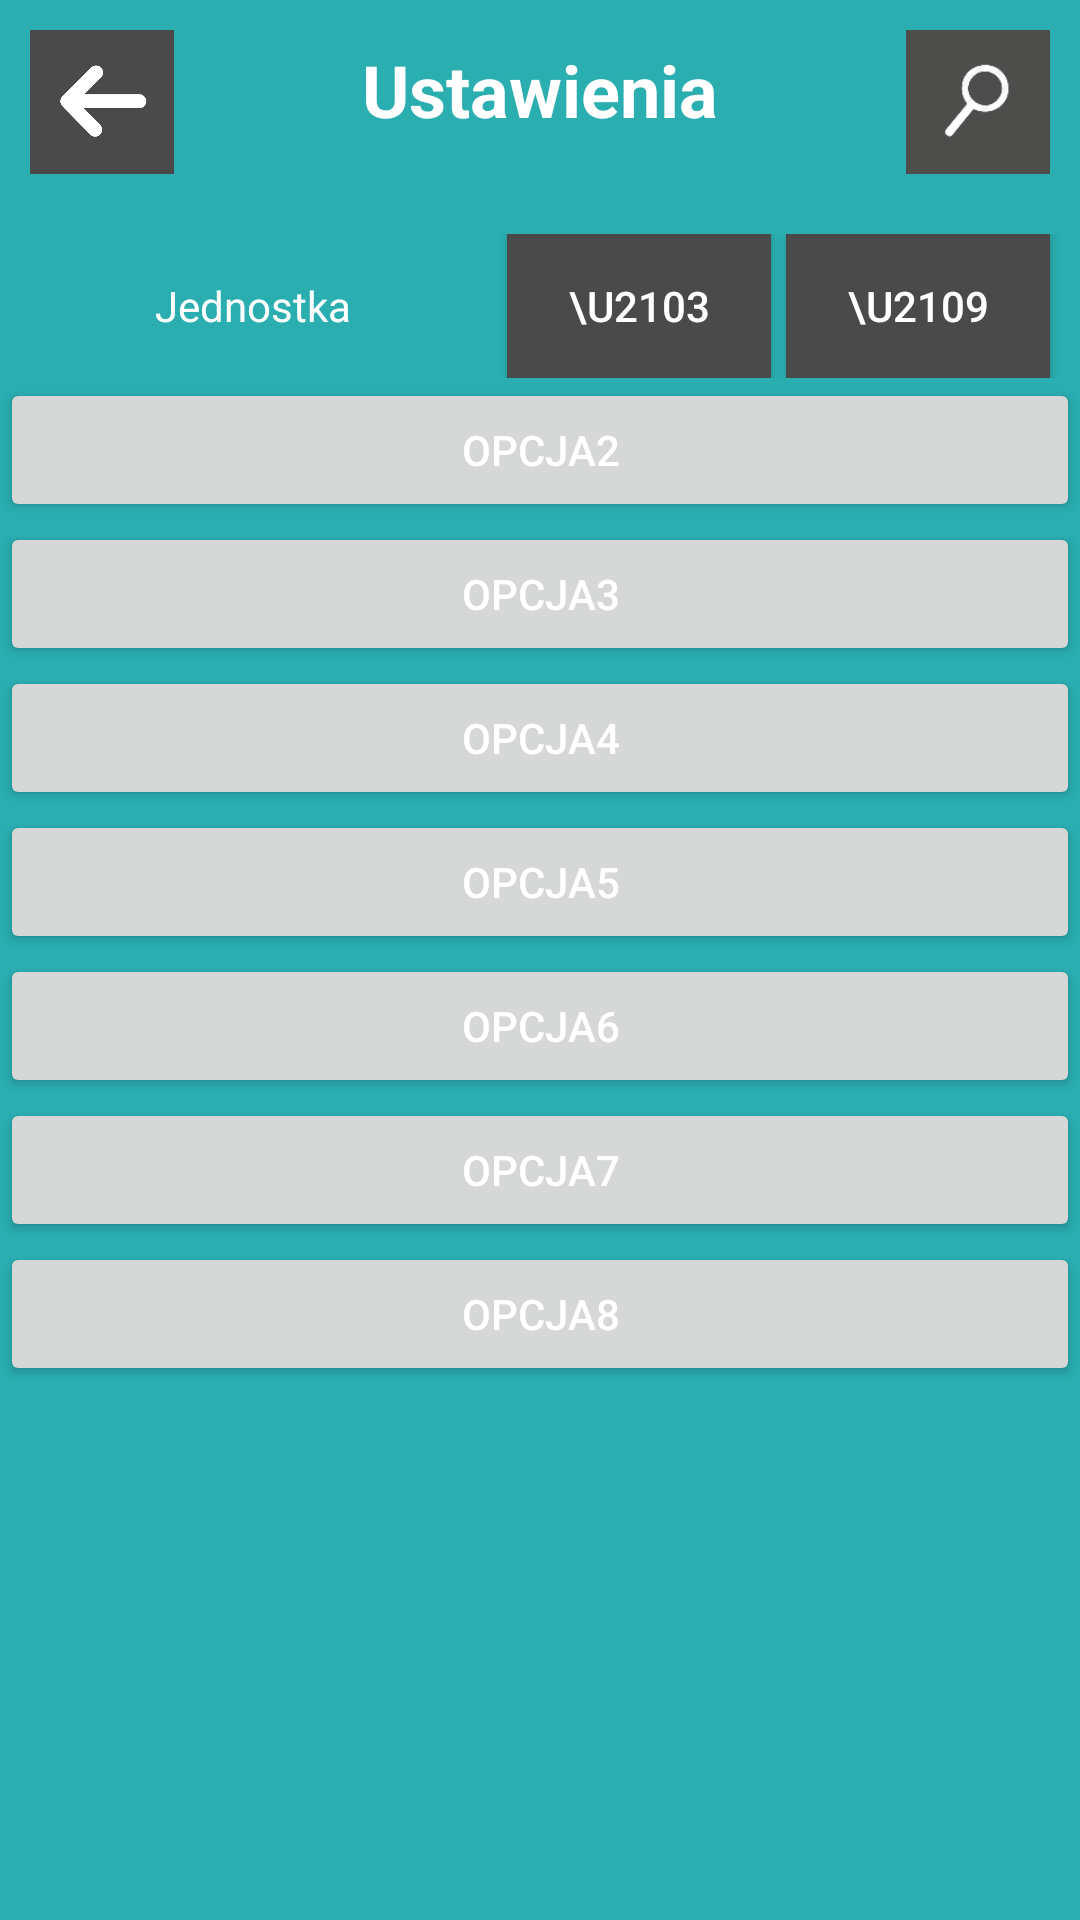

Where to tap for icons on this 1080*1920 app screen, as point (x, y):
lupa: point (978, 102)
strzalka: point (102, 102)
